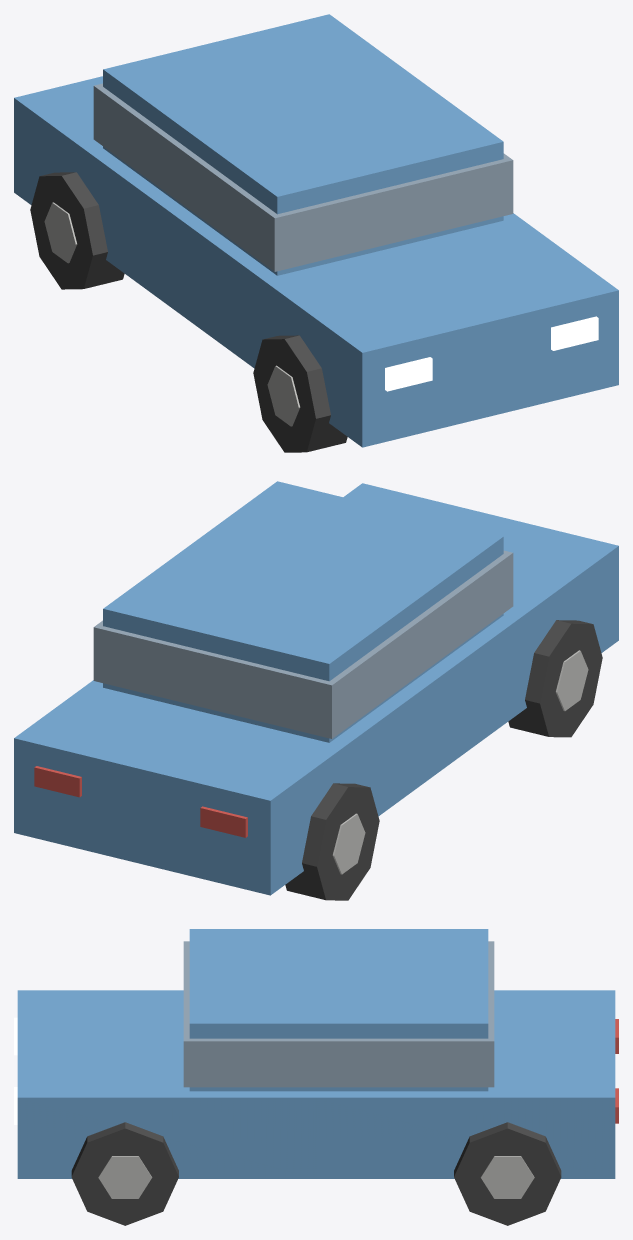
File: car.glb
3 views of the same model, one above another, from view 1: azimuth 30°, elevation 25°; view 2: azimuth 150°, elevation 25°; view 3: azimuth 270°, elevation 25° (orthographic). The views are drawn at different scales.
Visible parts, largest first — view 1: car; view 2: car; view 3: car.
Part boxes in pixels (box(x1,y1,x2,y2)): car: box(14, 14, 618, 452); car: box(14, 481, 618, 900); car: box(14, 929, 618, 1225).
Size of the model in its own units: 1.92 by 1.4 by 4.05.
